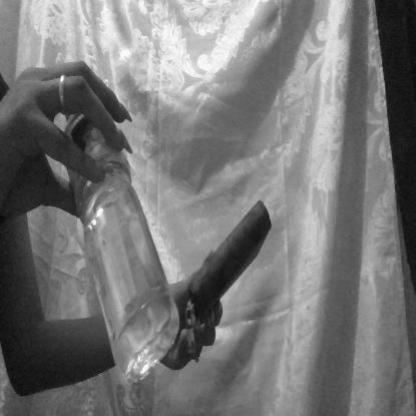Plastic Bottle: (53, 54, 184, 395)
